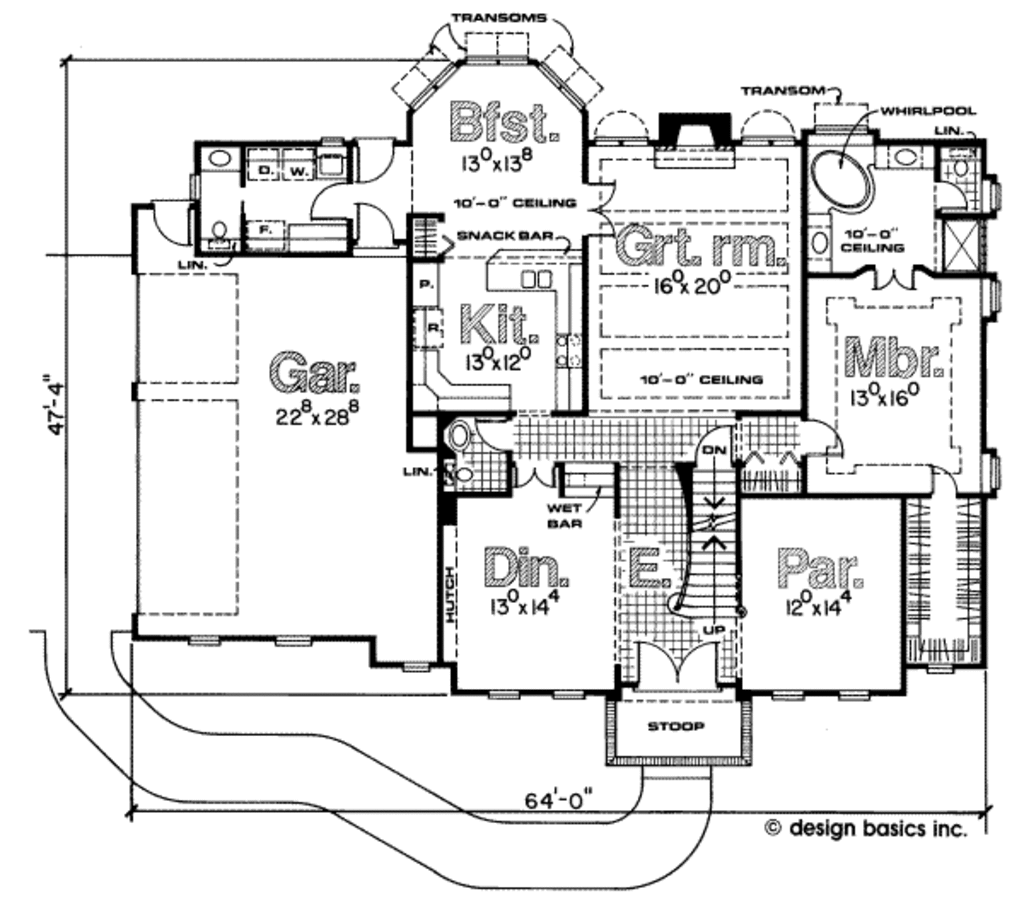door: (630, 636, 721, 701), (347, 132, 405, 186), (148, 194, 196, 253), (582, 174, 620, 247), (801, 414, 852, 466), (469, 412, 518, 462), (353, 197, 396, 250), (302, 179, 352, 223), (507, 455, 563, 490), (870, 262, 920, 301), (926, 455, 964, 501)
kitchen_bar: (481, 242, 579, 306)
large_sink: (198, 220, 237, 255), (945, 148, 982, 182)
small_sink: (804, 218, 837, 273), (195, 143, 242, 174)
stairs: (664, 457, 752, 633)
tub: (808, 140, 884, 220)
window: (974, 445, 1007, 499), (982, 274, 1008, 328), (176, 632, 225, 652), (397, 653, 434, 678), (266, 633, 314, 651), (770, 684, 808, 706), (833, 686, 870, 708), (547, 687, 584, 702), (483, 688, 521, 702)
